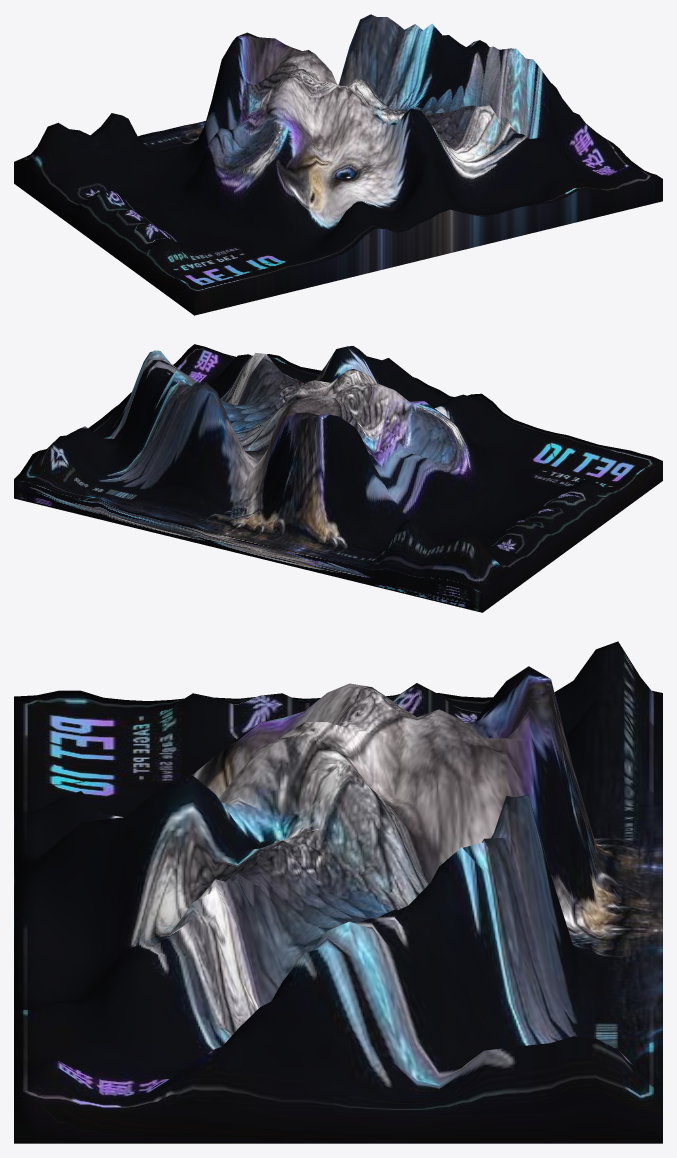
File: PET_10_Eagle.glb
The picture shows the model from 3 angles, top to bottom: view 1: azimuth 30°, elevation 25°; view 2: azimuth 150°, elevation 25°; view 3: azimuth 270°, elevation 25°; orthographic projection. The views are drawn at different scales.
Parts seen in each view (by area): view 1: PET_10_Eagle; view 2: PET_10_Eagle; view 3: PET_10_Eagle.
Boxes of the visible parts, left/top/right/bottom form: PET_10_Eagle: left=14, top=14, right=662, bottom=315; PET_10_Eagle: left=14, top=344, right=662, bottom=612; PET_10_Eagle: left=14, top=641, right=662, bottom=1143.
Size of the model in its own units: 2 by 0.51 by 1.33.
Materials: 1 (1 with a texture image).
